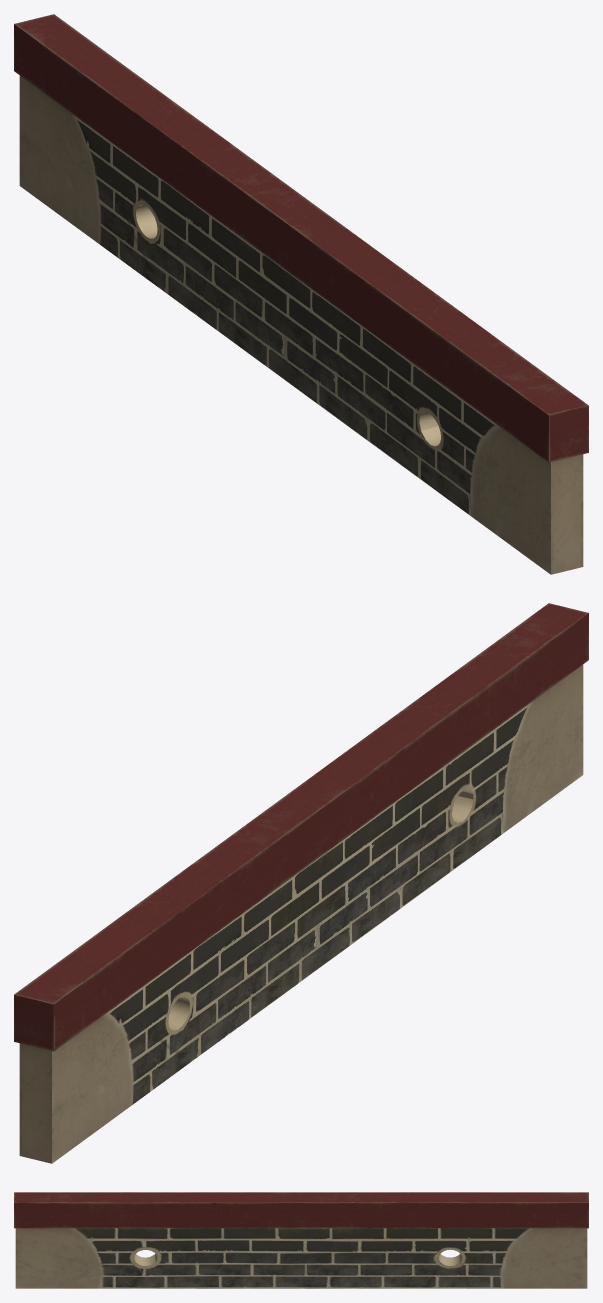
The model's file is SM_Wall01b.fbx.
3 renders of one model, top to bottom at view 1: azimuth 30°, elevation 25°; view 2: azimuth 150°, elevation 25°; view 3: azimuth 270°, elevation 25°, orthographic. The views are drawn at different scales.
Visible parts, largest first — view 1: SM_Wall01b; view 2: SM_Wall01b; view 3: SM_Wall01b.
Part boxes in pixels (x1,y1,x2,y2): SM_Wall01b: (14, 14, 588, 574); SM_Wall01b: (14, 603, 588, 1163); SM_Wall01b: (14, 1192, 588, 1288).
Size of the model in its own units: 13 by 300 by 50.
1 material, 1 textured.
